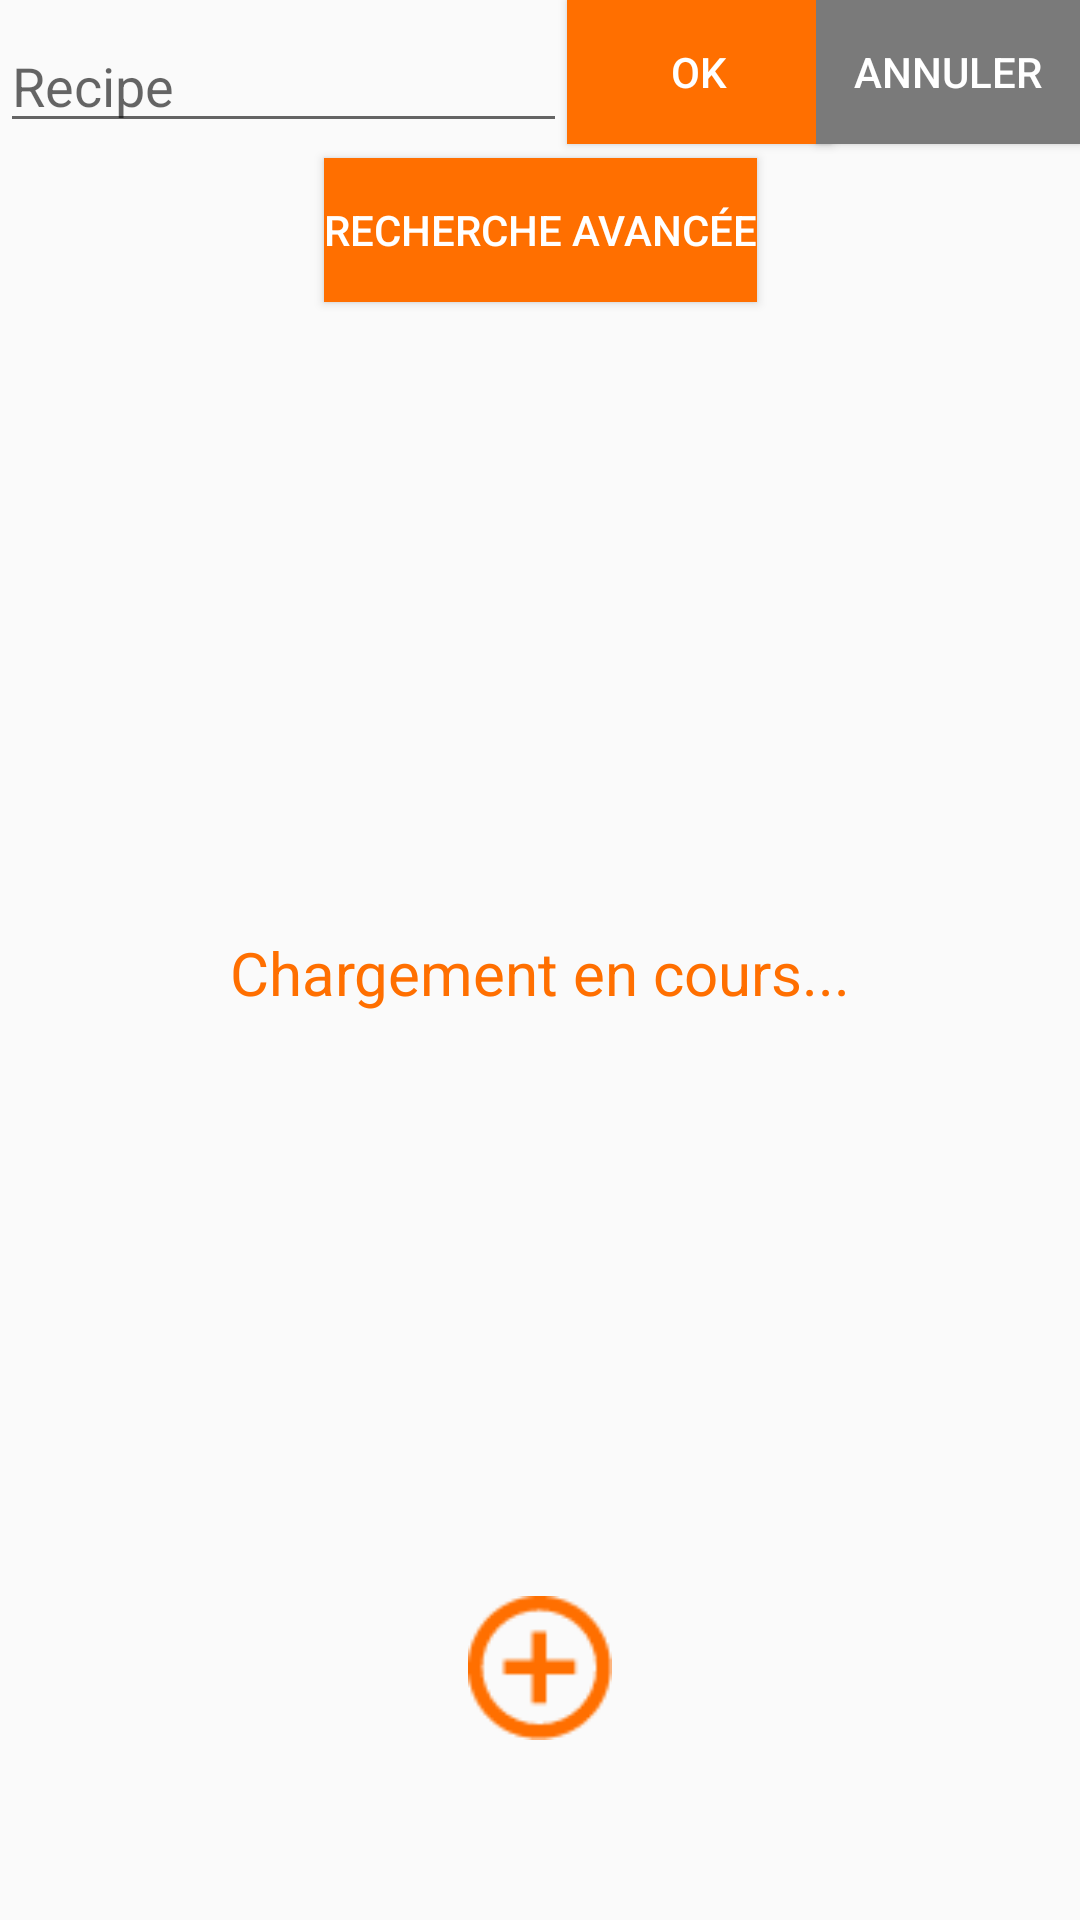

Screen size 1080x1920. Icon name, then its box in pixels as [x1=x1, y1=y1, x2=x2, y2=y2]:
add circle: [x1=468, y1=1596, x2=612, y2=1740]
